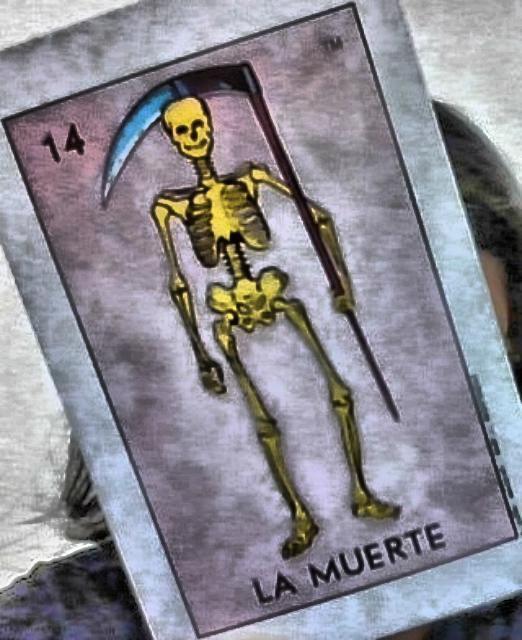La Muerte: (3, 5, 521, 638)
